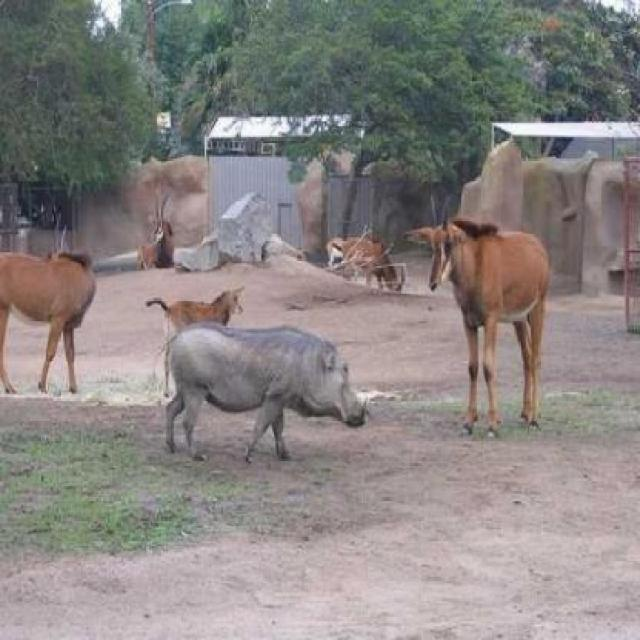pig: (145, 305, 410, 492)
